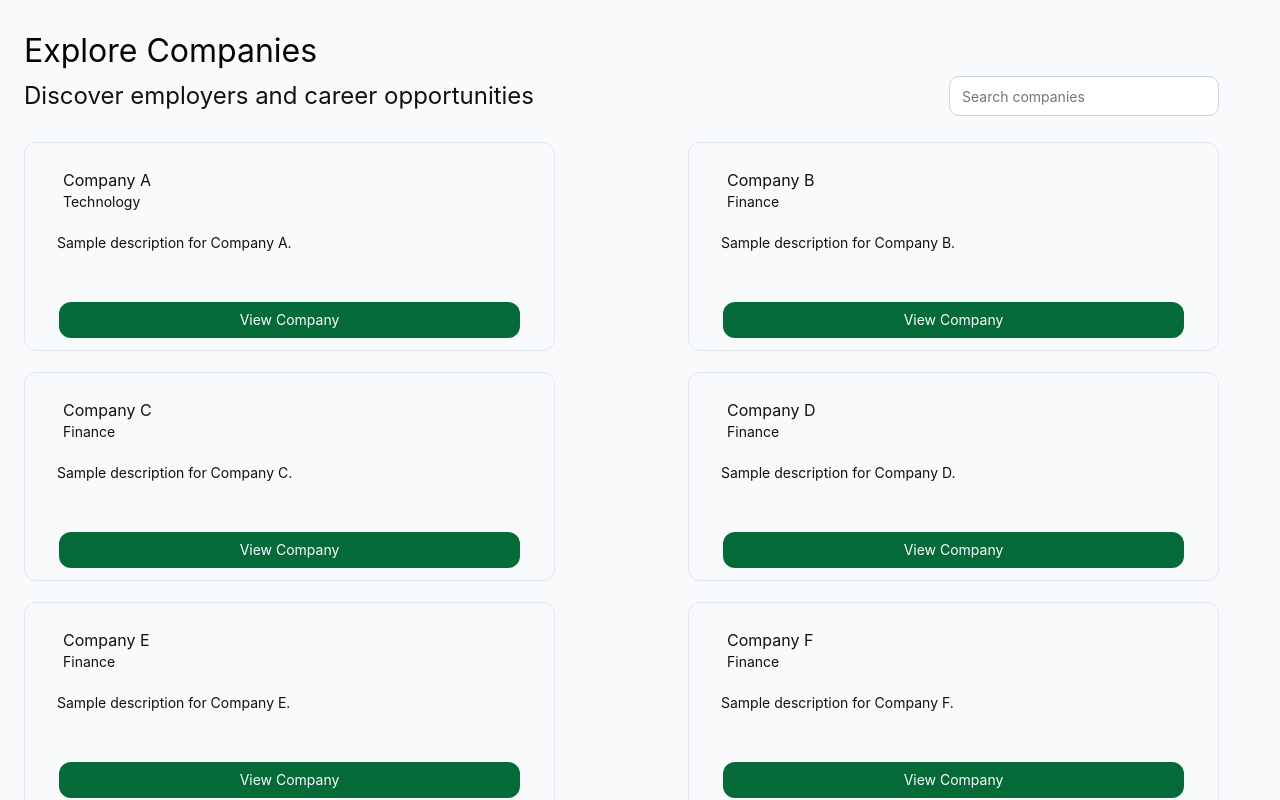
ExploreCompanies › shows a no-results message when no company name matches
In the search field named "Search companies by name": (1084, 96) [949,76,1219,116], type "unknown"
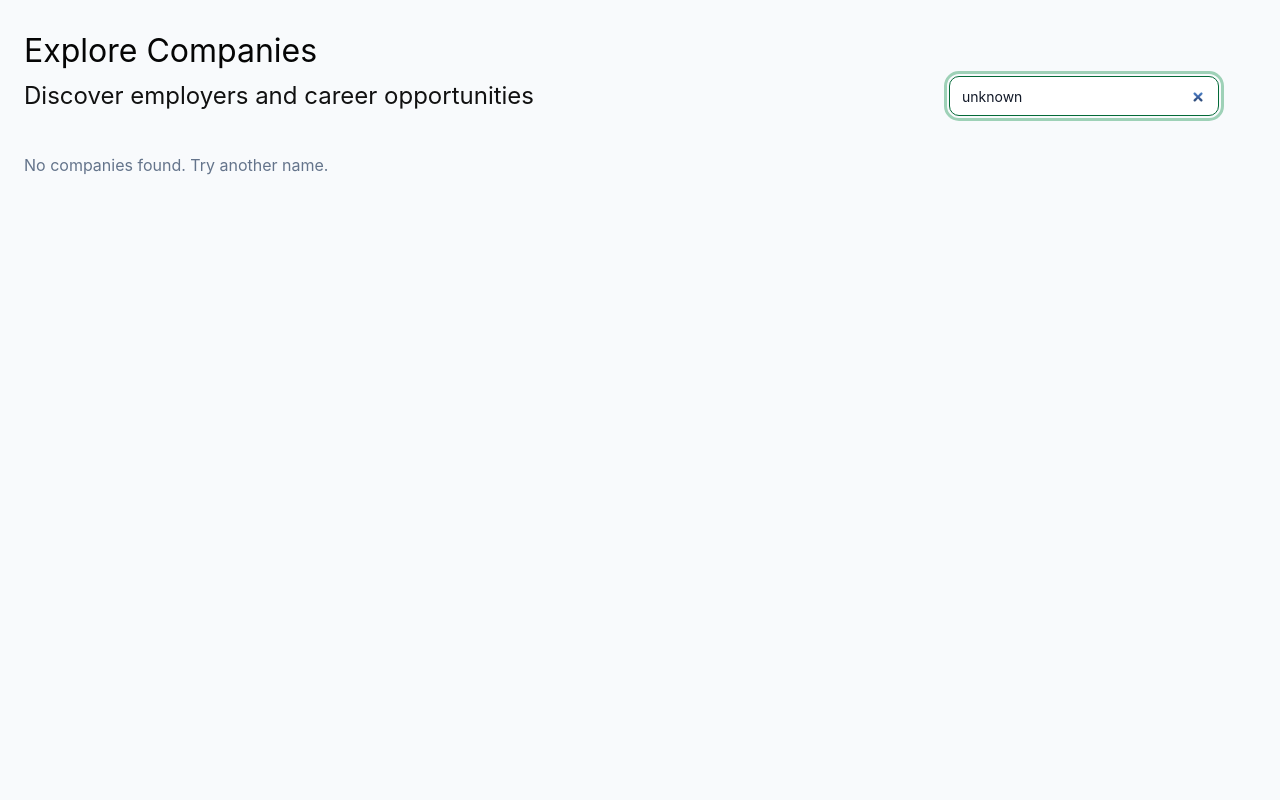
Now the message reads "No companies found. Try another name.", box [24,155,328,175]
